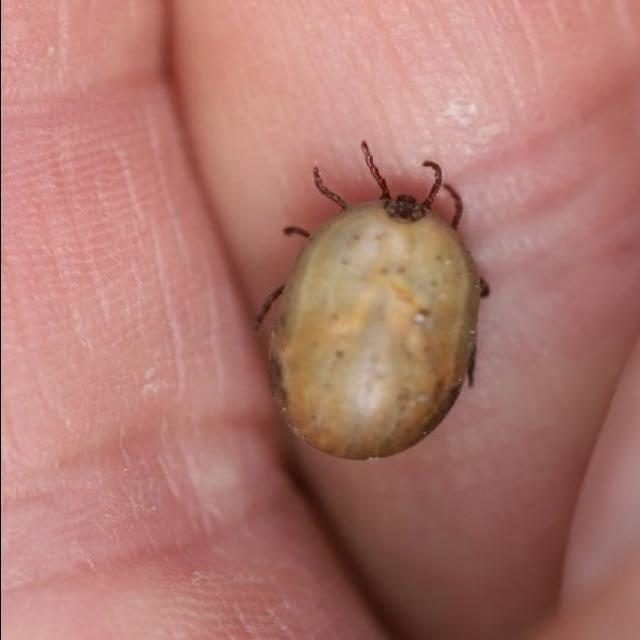Dermacentor Reticulatus-F-Fed: (253, 143, 488, 461)
